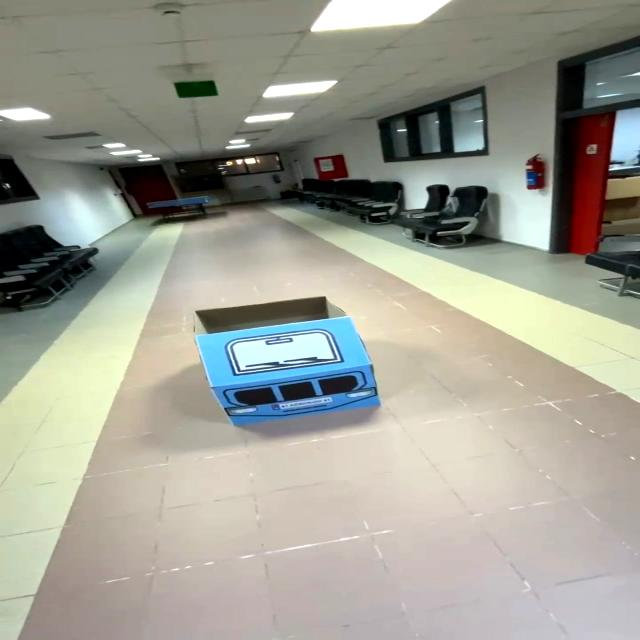blue_car: (162, 285, 408, 436)
